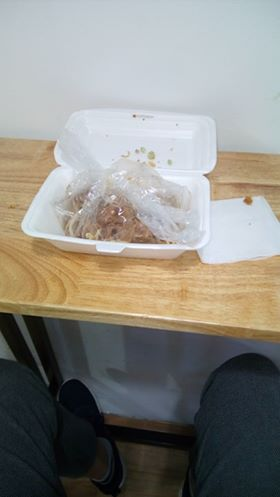plastic bag: (48, 128, 199, 244)
